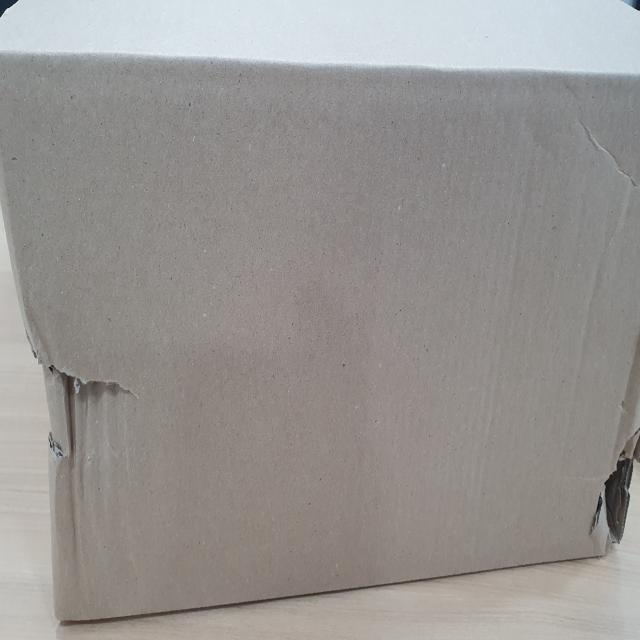hole: (31, 337, 165, 480), (588, 443, 640, 551)
